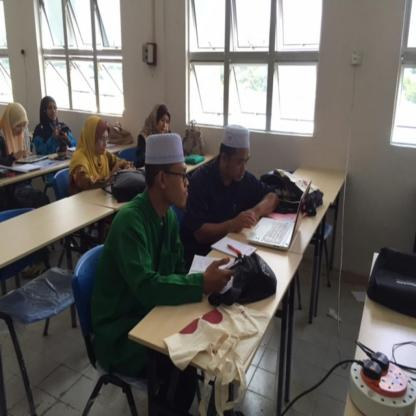board: (246, 183, 312, 254)
